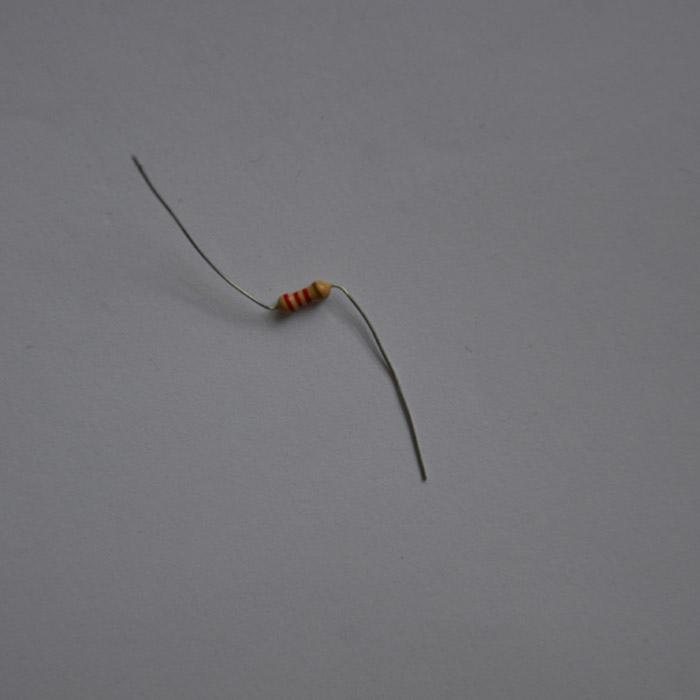resistor: (276, 280, 330, 314)
